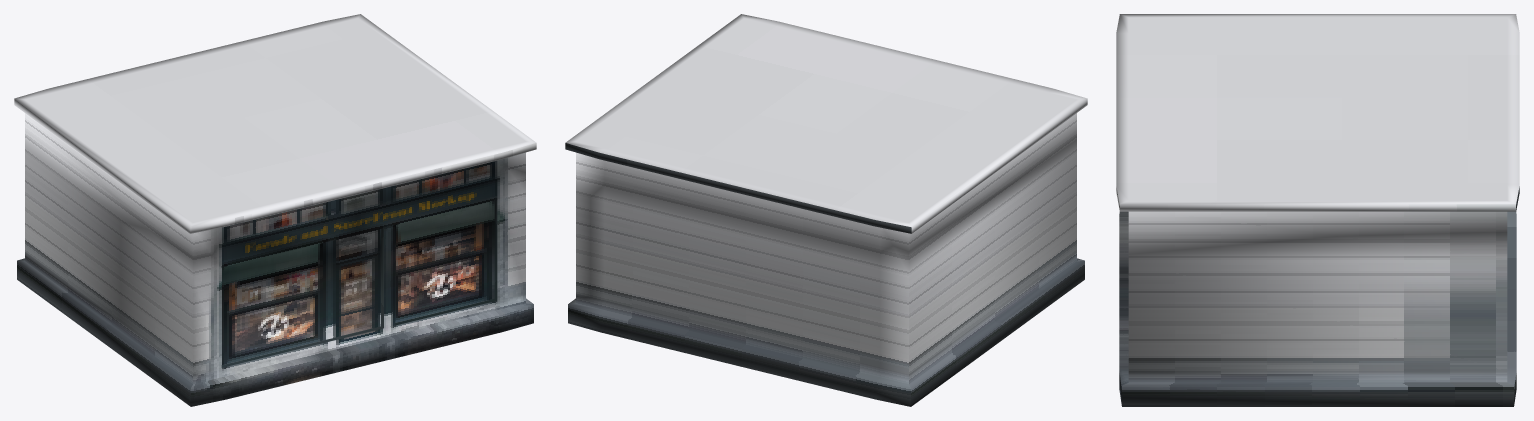
Rendered from Store 3.glb.
3 views of the same model, side by side, from view 1: azimuth 30°, elevation 25°; view 2: azimuth 150°, elevation 25°; view 3: azimuth 270°, elevation 25° (orthographic). The views are drawn at different scales.
Parts seen in each view (by area): view 1: Store3; view 2: Store3; view 3: Store3.
Part boxes in pixels (<box>): Store3: <box>14,14,536,406</box>; Store3: <box>565,14,1087,406</box>; Store3: <box>1116,14,1519,406</box>.
Bounding box in the file's own units: 8.33 × 4.15 × 7.46.
1 material, 1 textured.
